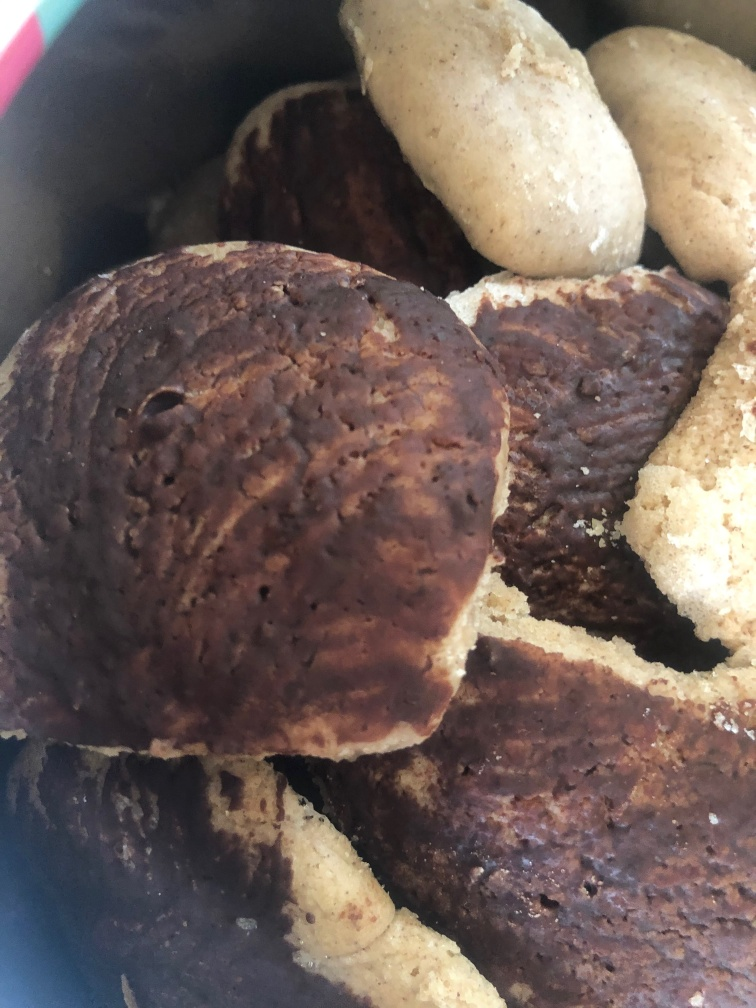weird #1: (4, 229, 509, 768), (199, 579, 756, 1007), (437, 255, 730, 665)
weird #2: (340, 4, 652, 272), (582, 16, 756, 276)
